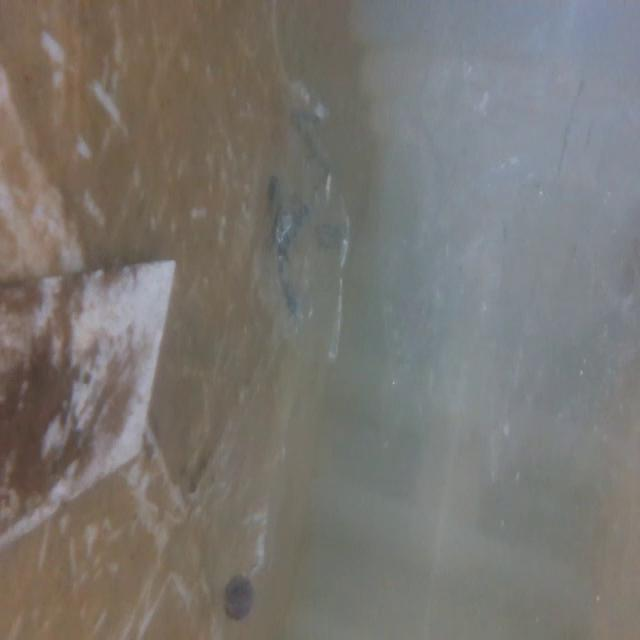metal: (0, 238, 194, 530)
plastic bags: (409, 0, 639, 492), (219, 73, 374, 357)
plastic bottle: (209, 440, 304, 640)
